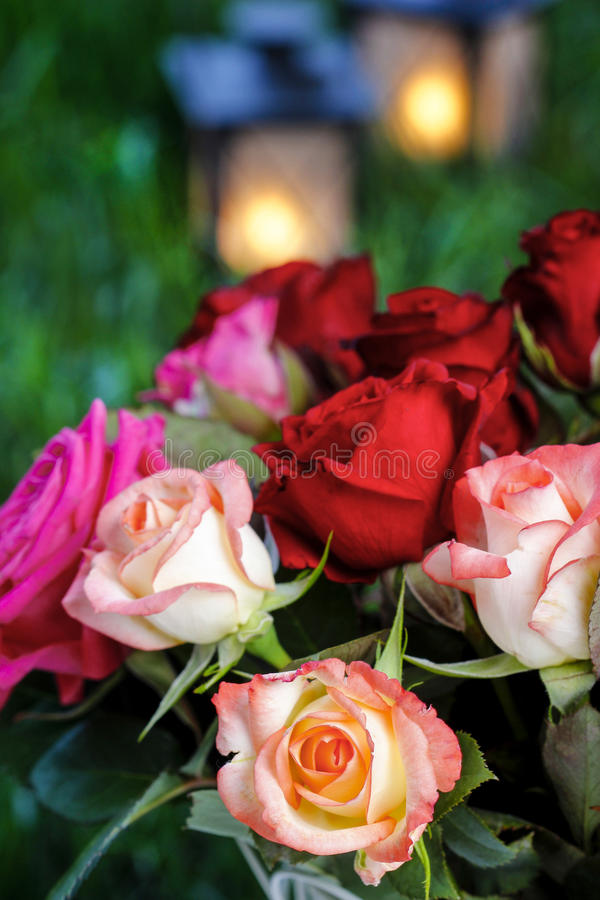RedRose: (240, 369, 488, 582), (350, 270, 526, 409), (215, 243, 385, 379), (491, 210, 599, 409)
